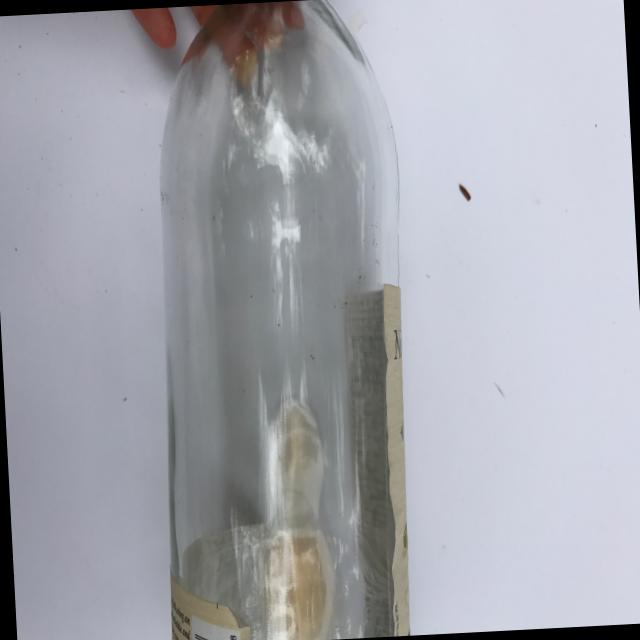Glass: (128, 0, 447, 640)
